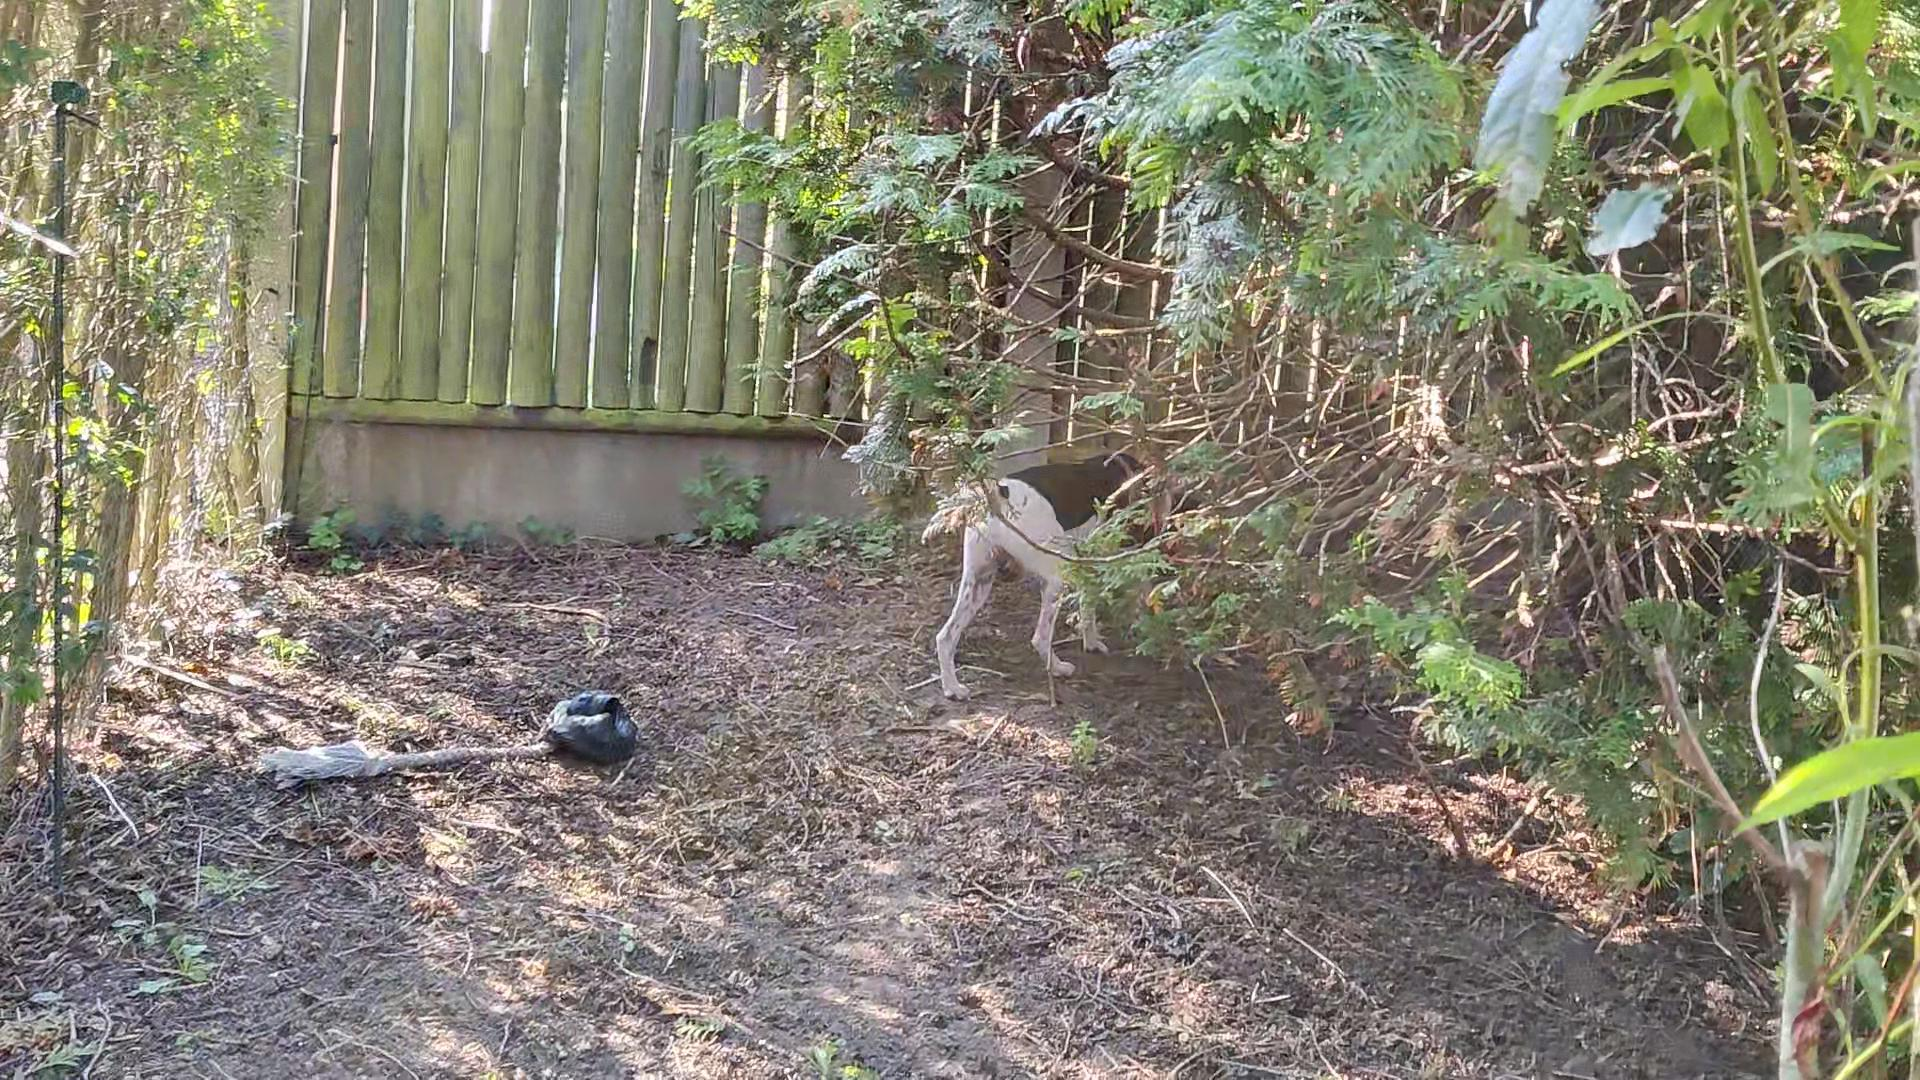Dog: (920, 452, 1213, 711)
